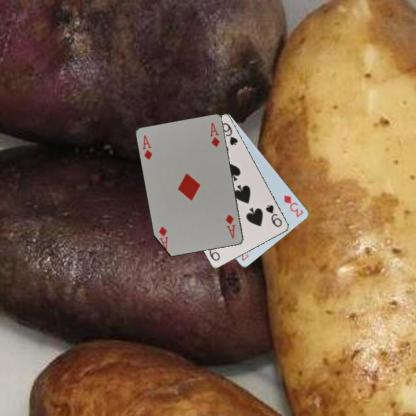3d: (282, 192, 304, 218)
9s: (263, 202, 284, 228)
Ad: (223, 211, 237, 240), (140, 133, 154, 161)
